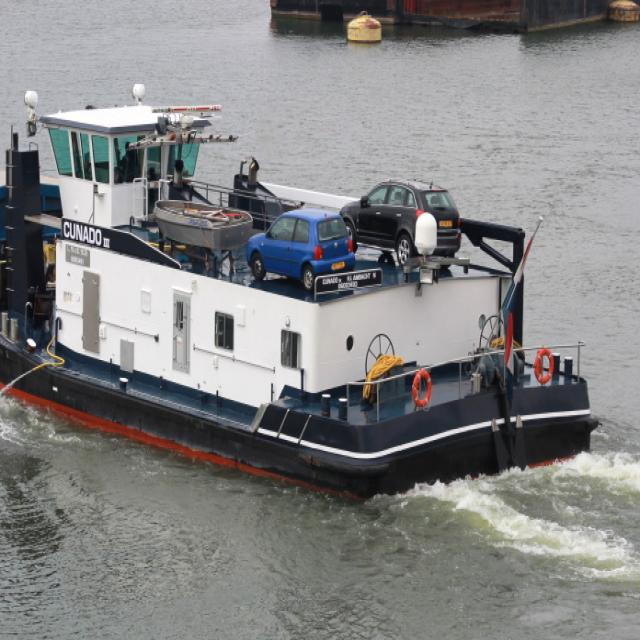tugboat: (1, 77, 605, 520)
